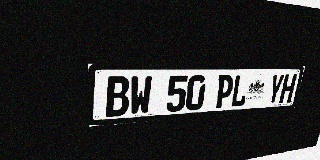0: (185, 75, 207, 111)
5: (166, 75, 188, 112)
B: (106, 76, 130, 117)
H: (279, 74, 297, 103)
L: (230, 75, 250, 107)
P: (214, 75, 235, 109)
W: (129, 76, 152, 115)
Y: (266, 74, 285, 104)
